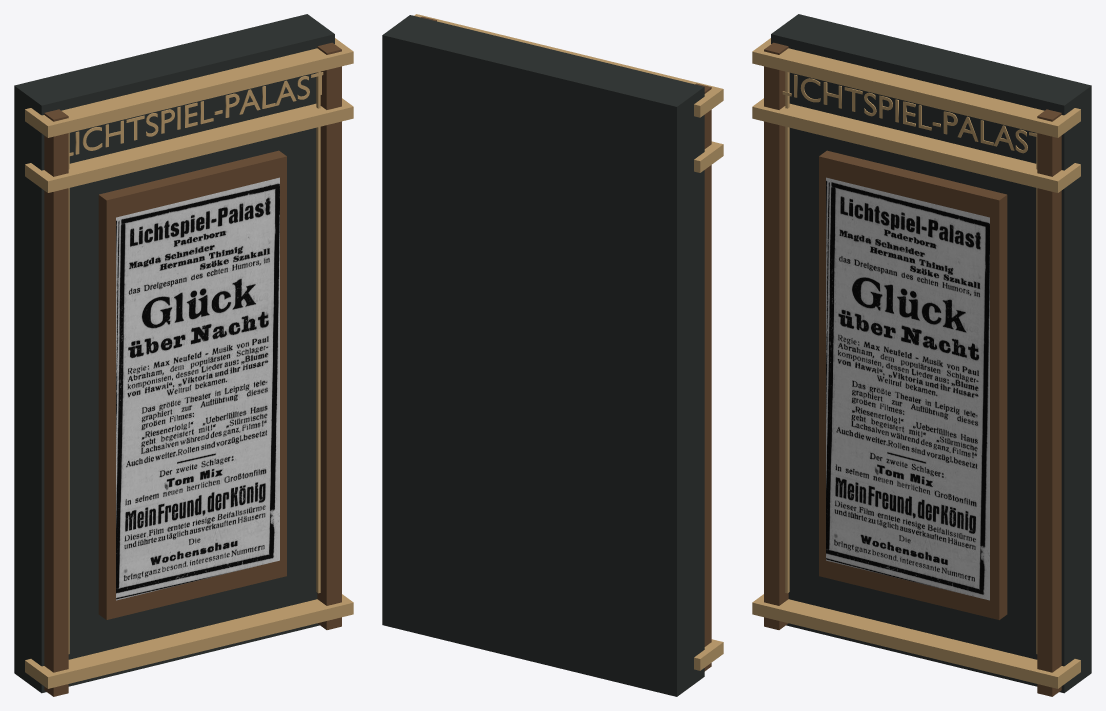
The model's file is an_palast.glb.
The picture shows the model from 3 angles, left to right: view 1: azimuth 30°, elevation 25°; view 2: azimuth 150°, elevation 25°; view 3: azimuth 330°, elevation 25°; orthographic projection.
Parts seen in each view (by area): view 1: Rückwand, palast, Programmrahmen, Profilleiste, Profilleiste.001, Gesims.002, Gesims, Gesims.001, Text, Intarsie.001, Intarsie; view 2: Rückwand, Profilleiste, Gesims.002, Gesims.001, Gesims; view 3: Rückwand, palast, Programmrahmen, Profilleiste.001, Profilleiste, Gesims.002, Gesims, Gesims.001, Text, Intarsie, Intarsie.001.
Part boxes in pixels (x1=…): Rückwand: x1=14, y1=14, x2=334, y2=693; palast: x1=116, y1=177, x2=279, y2=600; Programmrahmen: x1=98, y1=150, x2=286, y2=619; Profilleiste: x1=44, y1=109, x2=68, y2=696; Profilleiste.001: x1=317, y1=42, x2=341, y2=629; Gesims.002: x1=25, y1=38, x2=353, y2=137; Gesims: x1=25, y1=594, x2=353, y2=688; Gesims.001: x1=25, y1=98, x2=353, y2=192; Text: x1=68, y1=72, x2=323, y2=156; Intarsie.001: x1=316, y1=71, x2=320, y2=593; Intarsie: x1=68, y1=133, x2=69, y2=653; Rückwand: x1=382, y1=15, x2=704, y2=696; Profilleiste: x1=695, y1=83, x2=711, y2=671; Gesims.002: x1=414, y1=14, x2=723, y2=117; Gesims.001: x1=694, y1=141, x2=723, y2=172; Gesims: x1=694, y1=639, x2=723, y2=670; Rückwand: x1=771, y1=14, x2=1091, y2=693; palast: x1=826, y1=177, x2=989, y2=600; Programmrahmen: x1=819, y1=150, x2=1007, y2=619; Profilleiste.001: x1=1037, y1=109, x2=1061, y2=696; Profilleiste: x1=764, y1=42, x2=788, y2=629; Gesims.002: x1=752, y1=38, x2=1080, y2=137; Gesims: x1=752, y1=594, x2=1080, y2=688; Gesims.001: x1=752, y1=98, x2=1080, y2=192; Text: x1=782, y1=74, x2=1037, y2=156; Intarsie: x1=785, y1=71, x2=789, y2=593; Intarsie.001: x1=1036, y1=133, x2=1037, y2=653.
Size of the model in its own units: 1.22 by 2.24 by 0.277.
4 materials, 1 textured.
